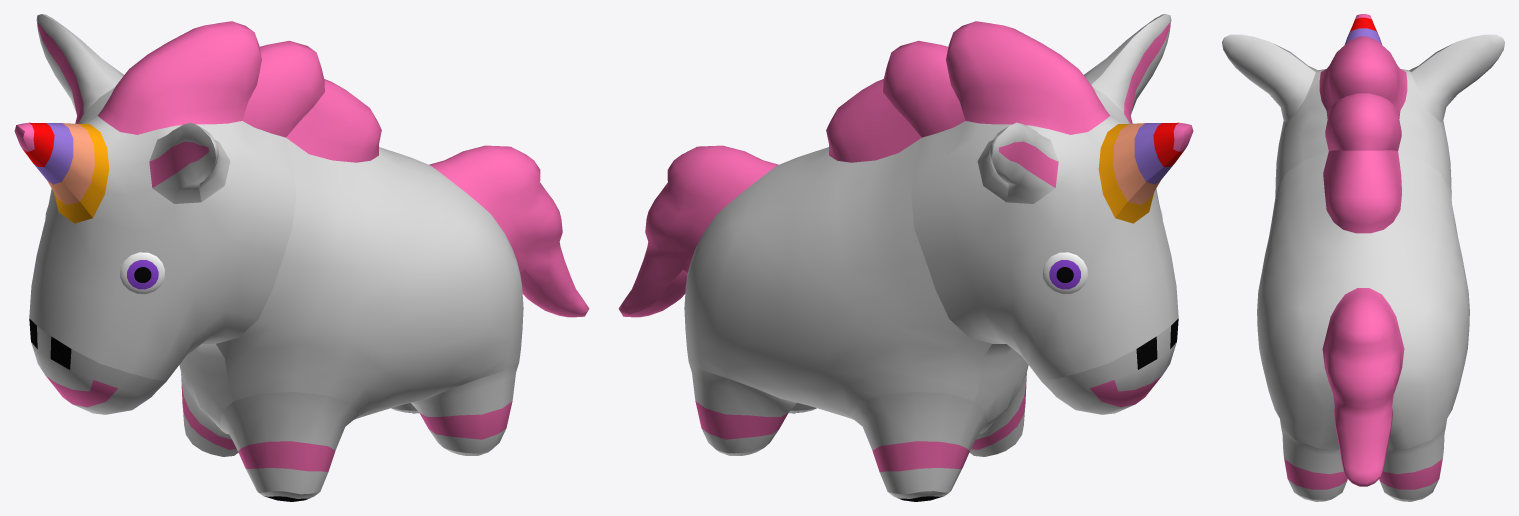
3 renders of one model, left to right at view 1: azimuth 30°, elevation 25°; view 2: azimuth 150°, elevation 25°; view 3: azimuth 270°, elevation 25°, orthographic. The views are drawn at different scales.
Visible parts, largest first — view 1: Plush Unicorn; view 2: Plush Unicorn; view 3: Plush Unicorn.
Boxes of the visible parts, <box> form: Plush Unicorn: <box>14,14,589,501</box>; Plush Unicorn: <box>618,14,1193,501</box>; Plush Unicorn: <box>1222,14,1504,501</box>.
Bounding box in the file's own units: 42.33 × 32.62 × 23.04.
